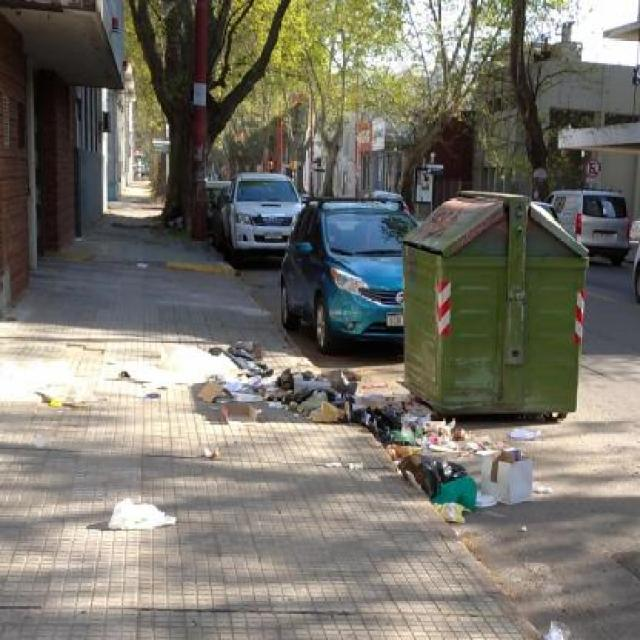garbage: (105, 362, 540, 566), (25, 355, 109, 458), (169, 329, 284, 373), (105, 498, 182, 554)
